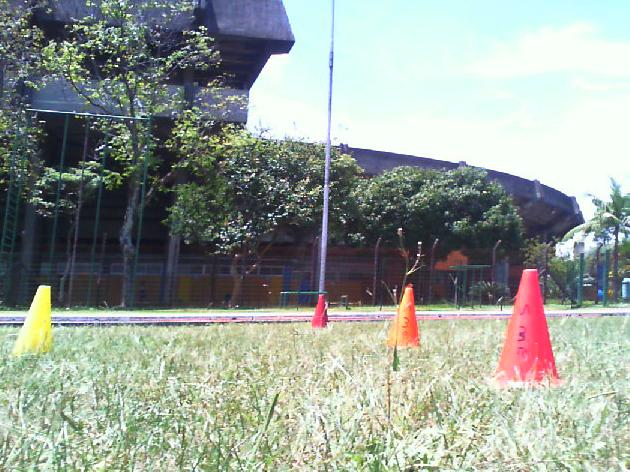0 cone: (496, 269, 558, 381), (12, 284, 52, 354), (389, 288, 420, 347), (312, 297, 329, 328)
